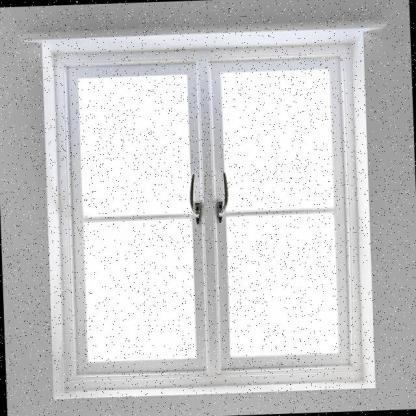Window: (33, 25, 391, 408)
